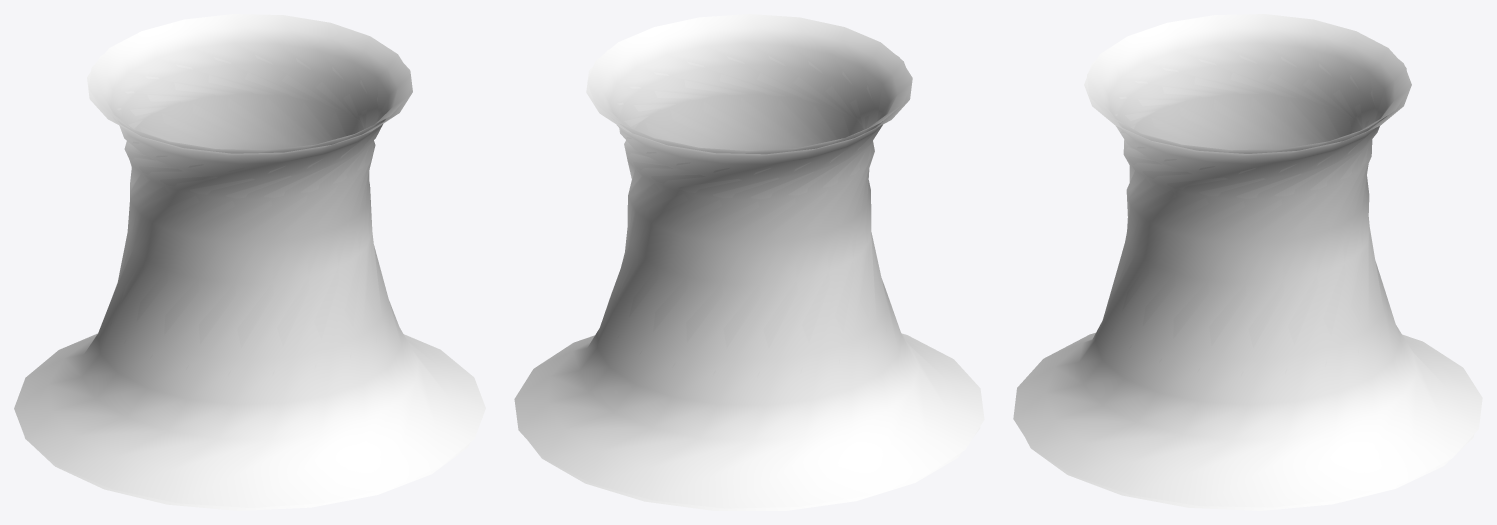
Rendered from windthermal01.dae.
3 renders of one model, left to right at view 1: azimuth 30°, elevation 25°; view 2: azimuth 150°, elevation 25°; view 3: azimuth 270°, elevation 25°, orthographic.
Parts seen in each view (by area): view 1: windthermalOut, windthermalIn; view 2: windthermalOut, windthermalIn; view 3: windthermalOut, windthermalIn.
Boxes of the visible parts, x1,y1,x2,y2 form: windthermalOut: (14,55,485,507); windthermalIn: (24,14,482,510); windthermalOut: (514,50,984,508); windthermalIn: (529,14,980,510); windthermalOut: (1013,55,1482,507); windthermalIn: (1025,14,1474,510).
Size of the model in its own units: 1.29 by 1.01 by 1.29.
